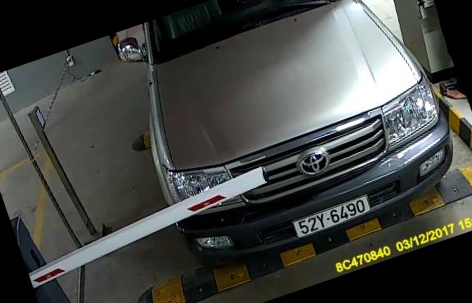plate: (286, 193, 374, 241)
